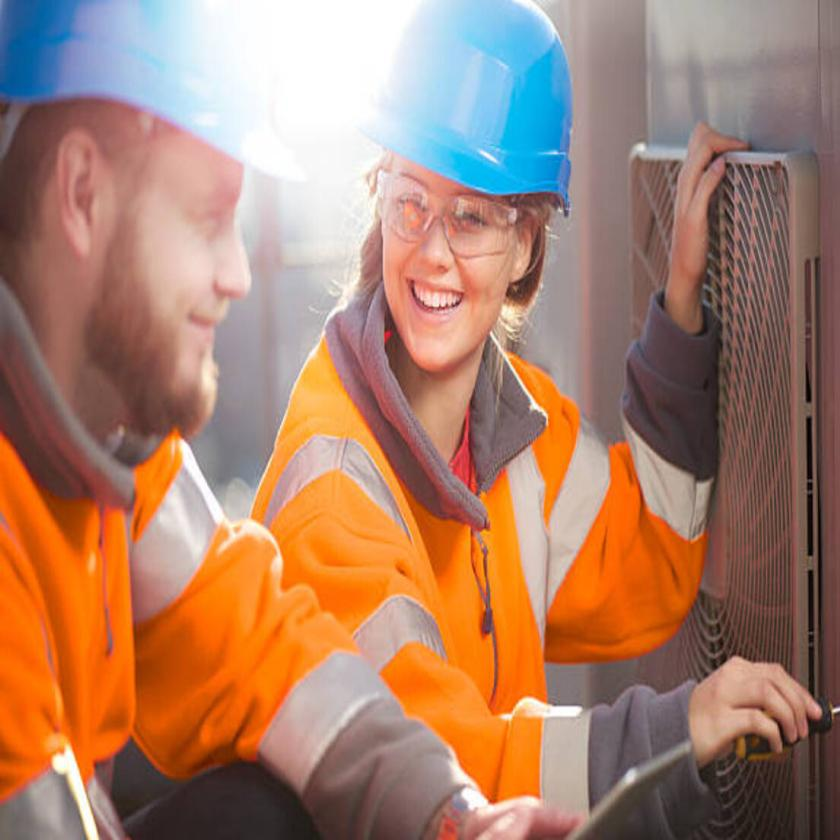Con_casco: (3, 0, 303, 454), (381, 0, 574, 402)
